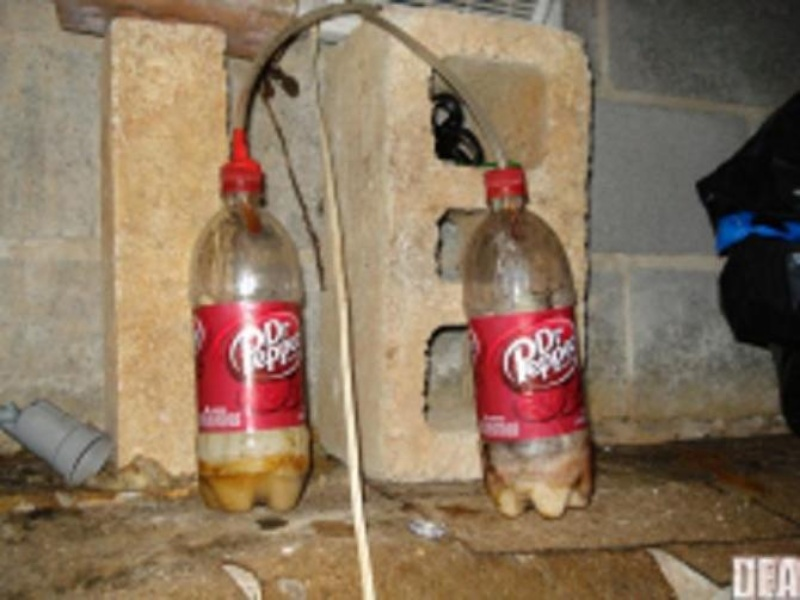Plastic bottle: (162, 145, 334, 515), (433, 169, 610, 503)
